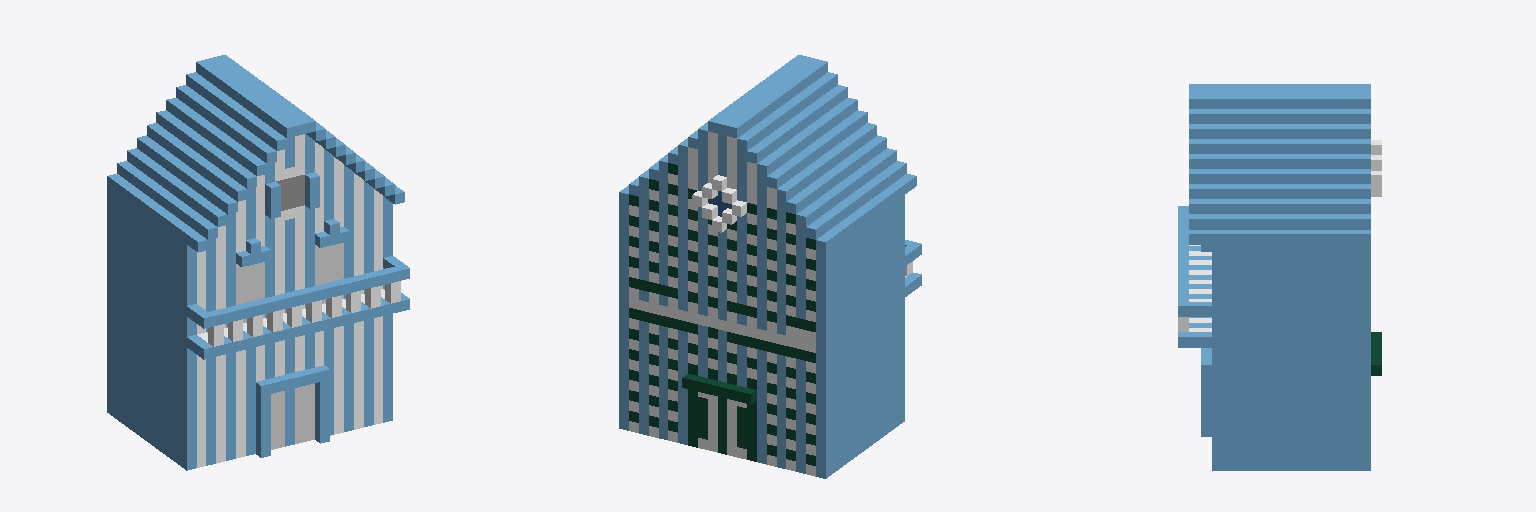
3 views of the same model, side by side, from view 1: azimuth 30°, elevation 25°; view 2: azimuth 150°, elevation 25°; view 3: azimuth 270°, elevation 25° (orthographic).
Size of the model in its own units: 21 by 32 by 18.
Materials: 1 (1 with a texture image).